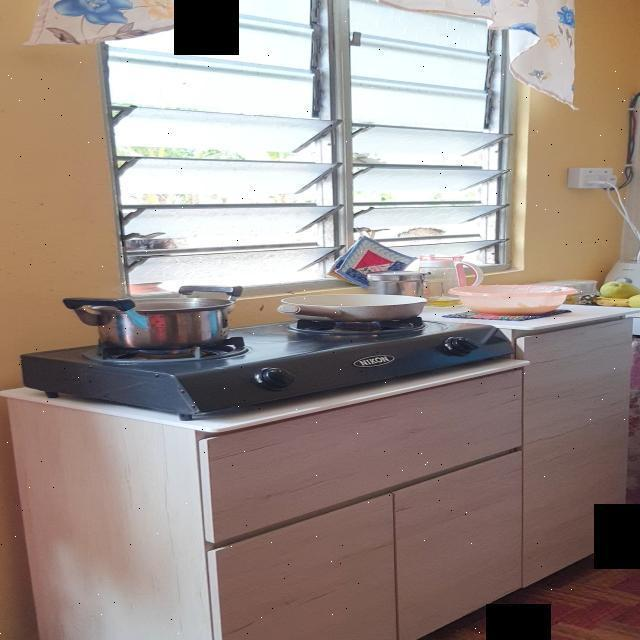Pan: (67, 283, 273, 352), (454, 273, 579, 322), (280, 283, 435, 321)
